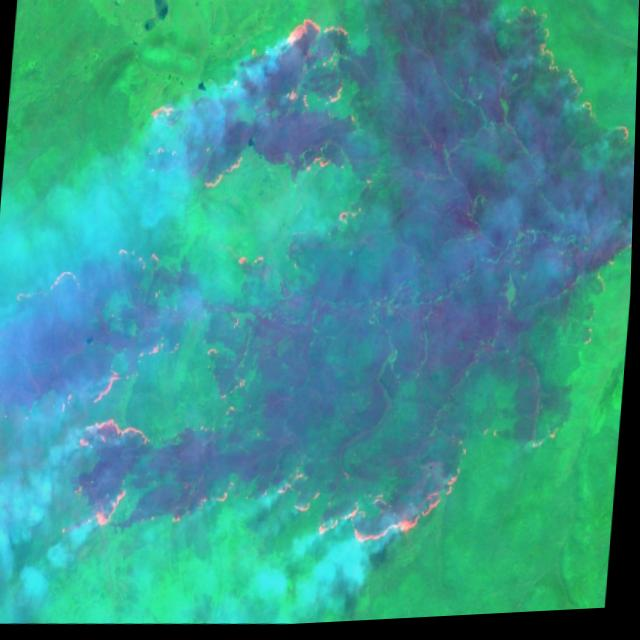fire: (0, 0, 505, 640)
